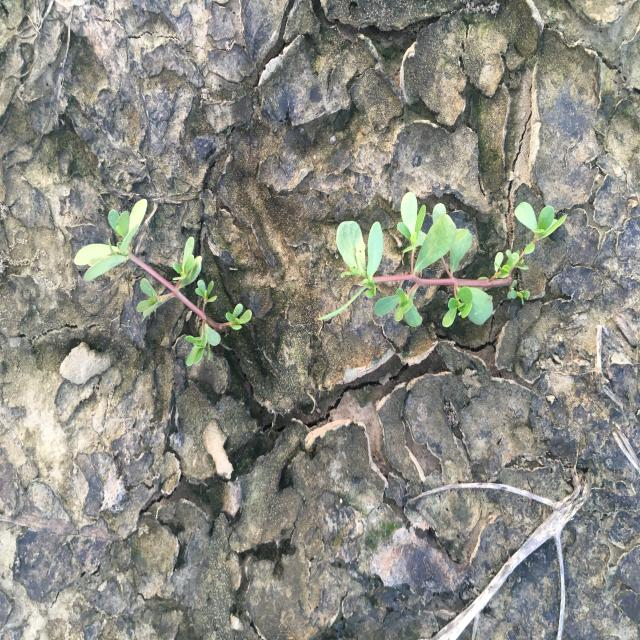Purslane: (316, 191, 568, 330), (73, 198, 253, 368)
